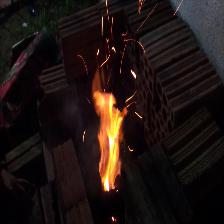fire: (76, 39, 143, 198)
